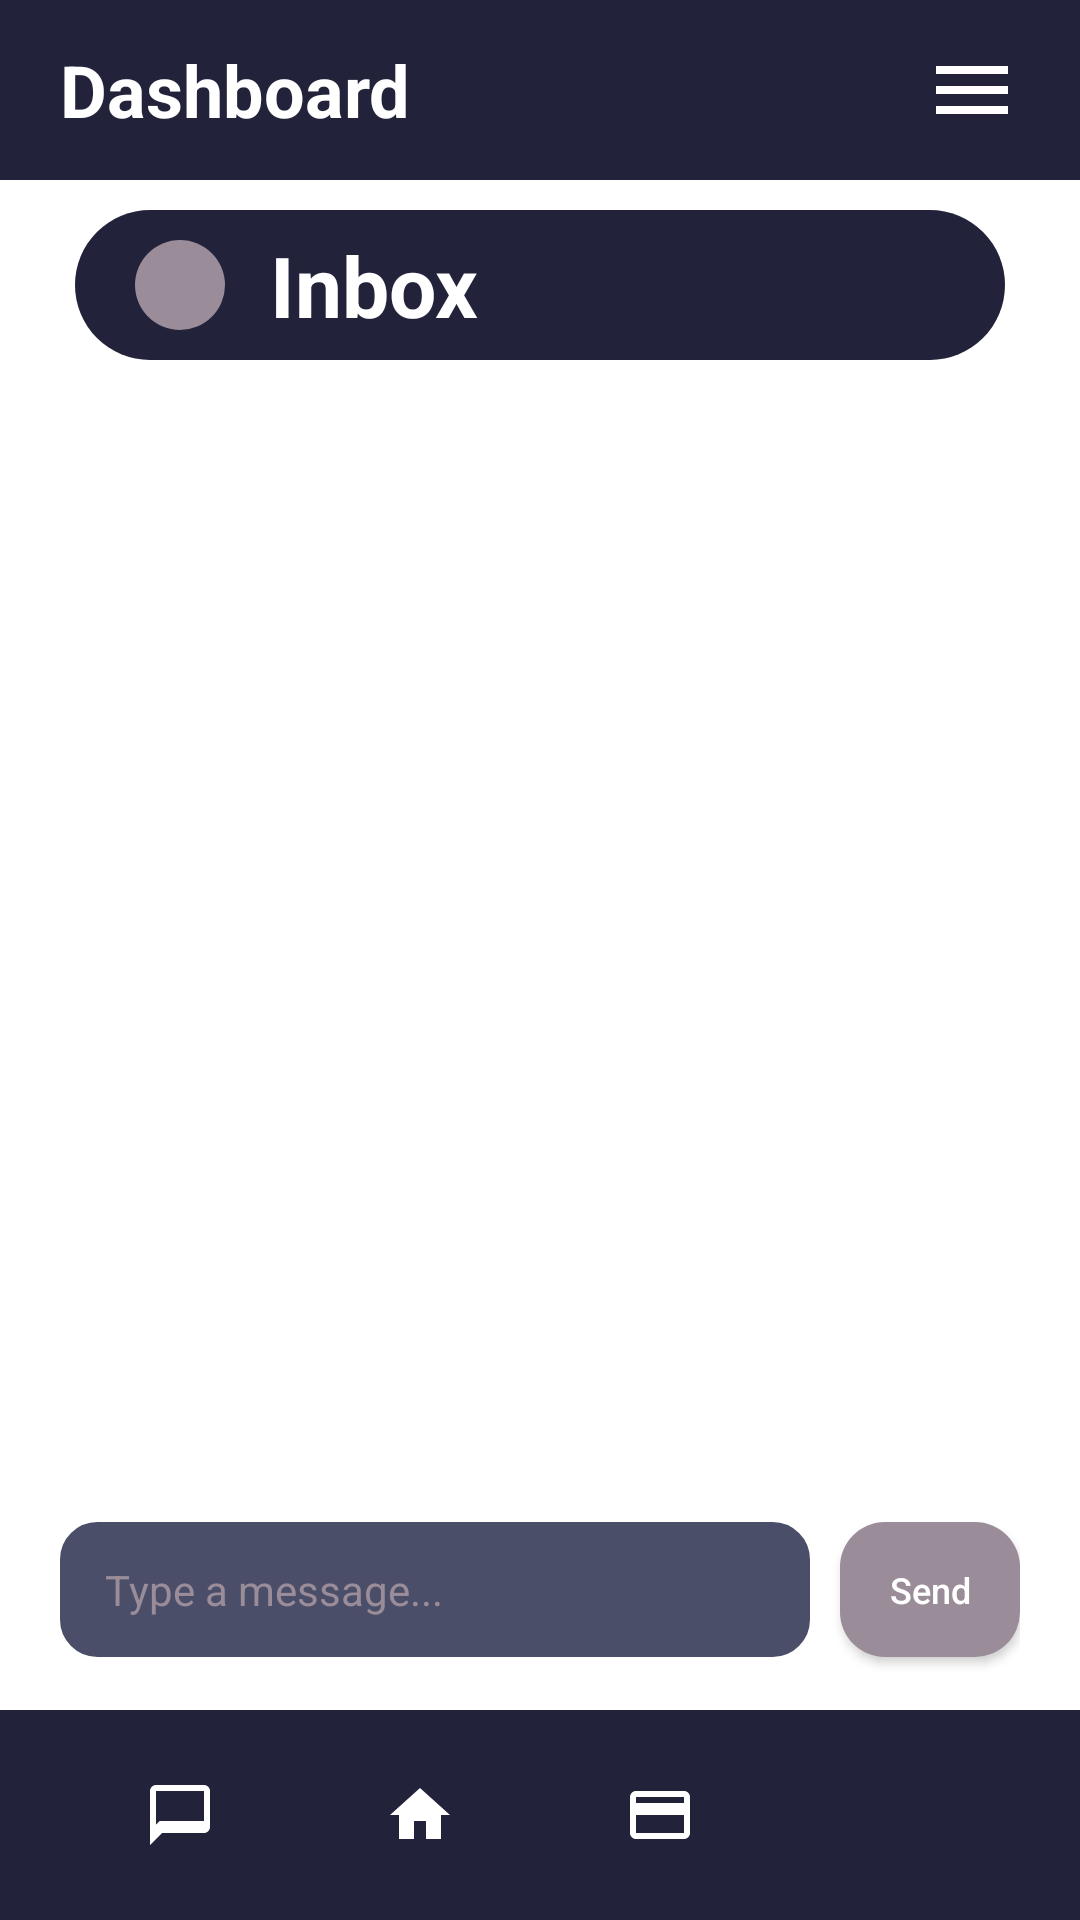

Screen size 1080×1920. Icon name, then its box in pixels as box=[x1, y1, x2, y2]:
Home: box=[390, 1788, 450, 1839]
Menu: box=[936, 66, 1008, 114]
Messages: box=[150, 1785, 210, 1845]
Payments: box=[630, 1791, 690, 1839]
